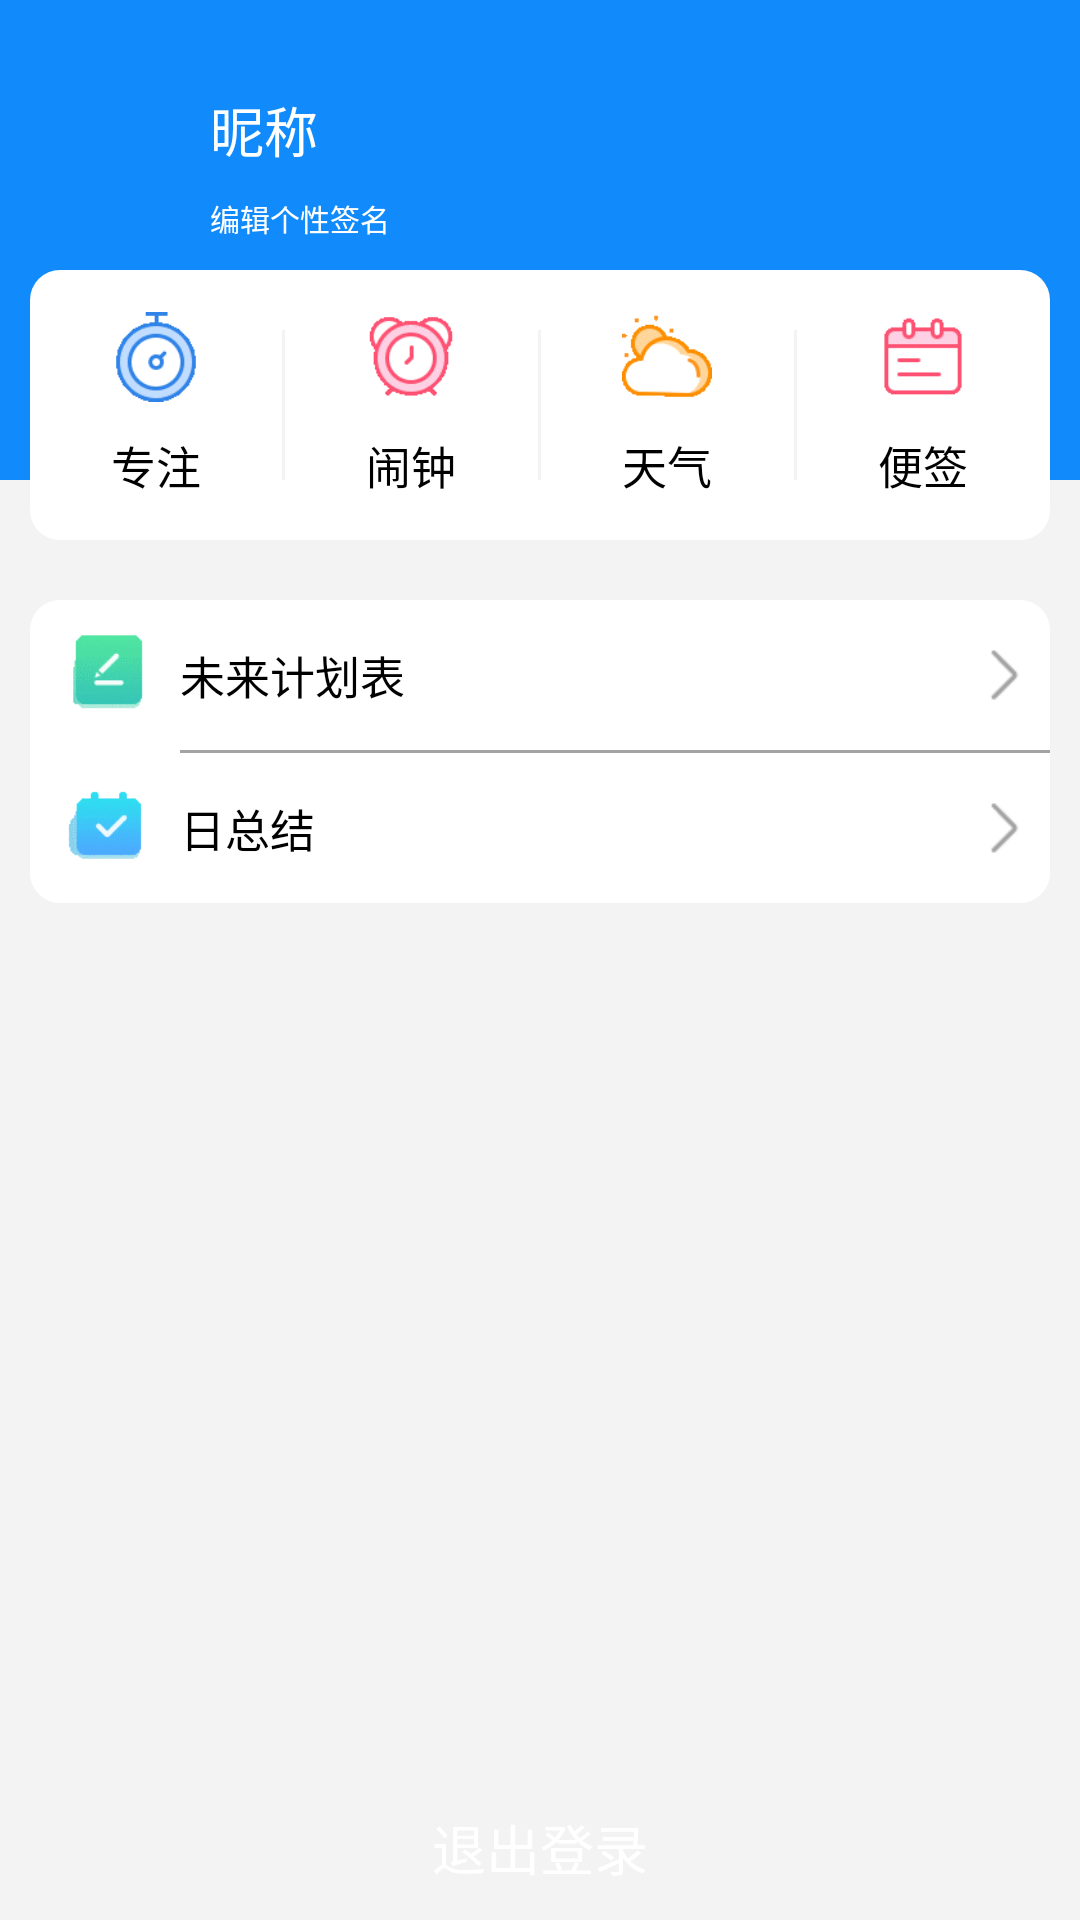

Point at icon controls on the screen. Image size 1080 × 1920, points as (x,y).
arrow right: (1004,675), (1004,828)
conclution: (105,825)
futureplan: (108,671)
weather: (667,356)
